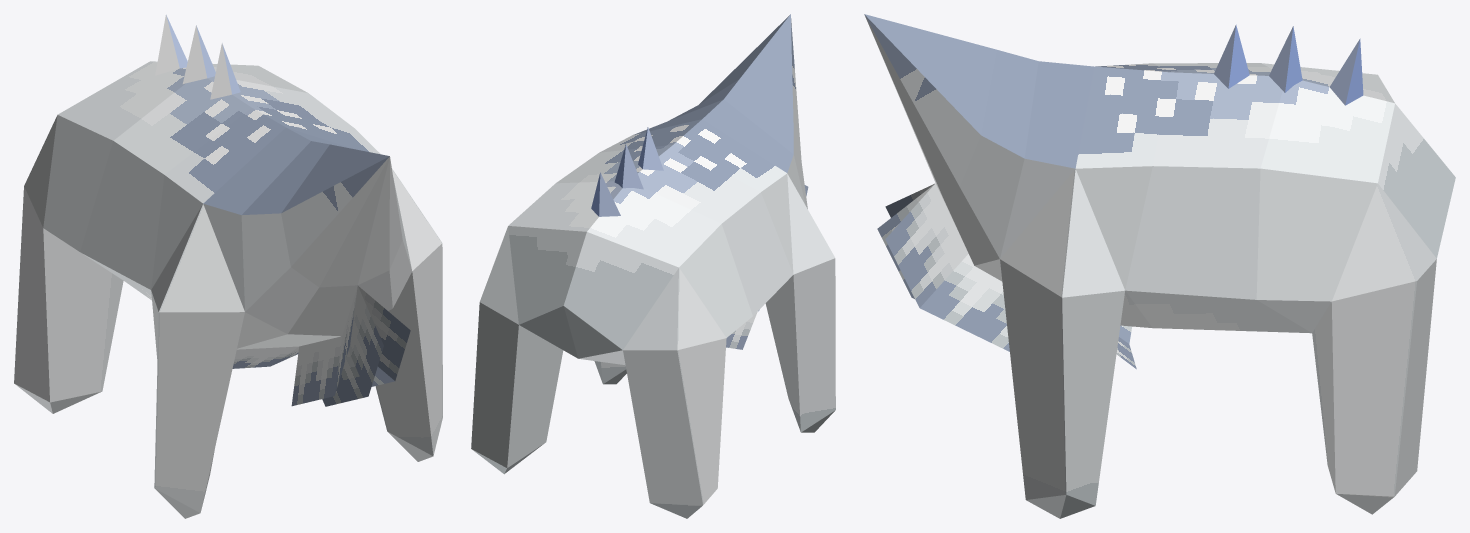
The model's file is Sagebody.glb.
The picture shows the model from 3 angles, left to right: view 1: azimuth 30°, elevation 25°; view 2: azimuth 150°, elevation 25°; view 3: azimuth 270°, elevation 25°; orthographic projection. The views are drawn at different scales.
Parts seen in each view (by area): view 1: body; view 2: body; view 3: body.
Boxes of the visible parts, x1,y1,x2,y2 form: body: (14, 14, 442, 518); body: (471, 14, 835, 518); body: (864, 14, 1455, 518).
Size of the model in its own units: 0.2385 by 0.3156 by 0.3825.
Materials: 1 (1 with a texture image).
